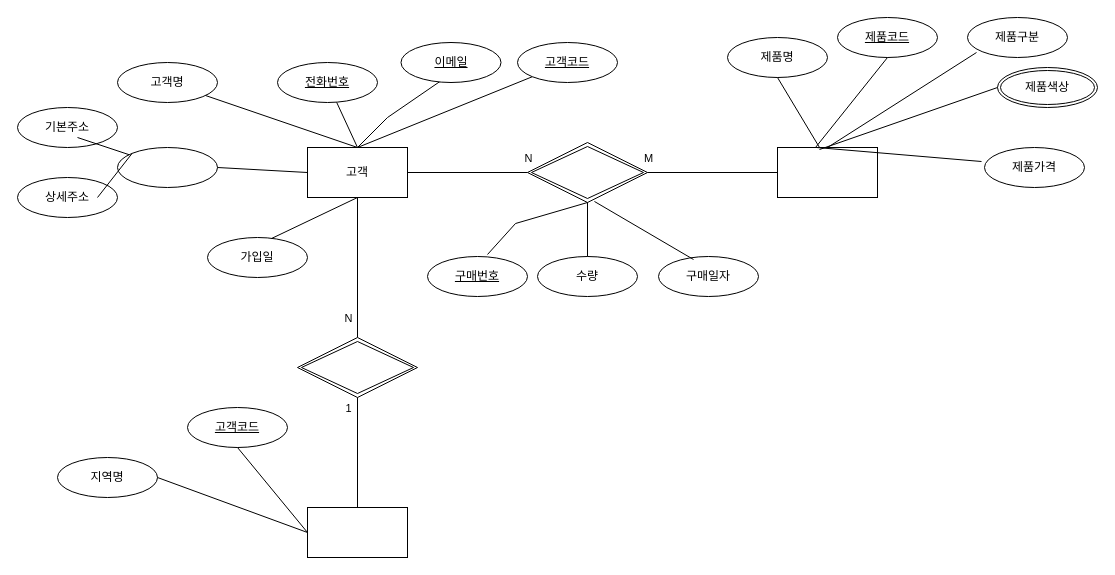
Image size: 1115x575. Some labels were removed from this diagram. Each missing label, with the centre of its shape:
"관리" belongs at (357,367).
"구매" belongs at (587,172).
"제품" belongs at (827,172).
"주소" belongs at (167,167).
"지역" belongs at (357,532).
